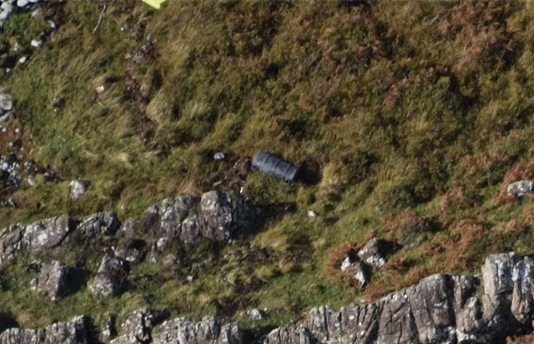white_in_green: (234, 127, 318, 206)
